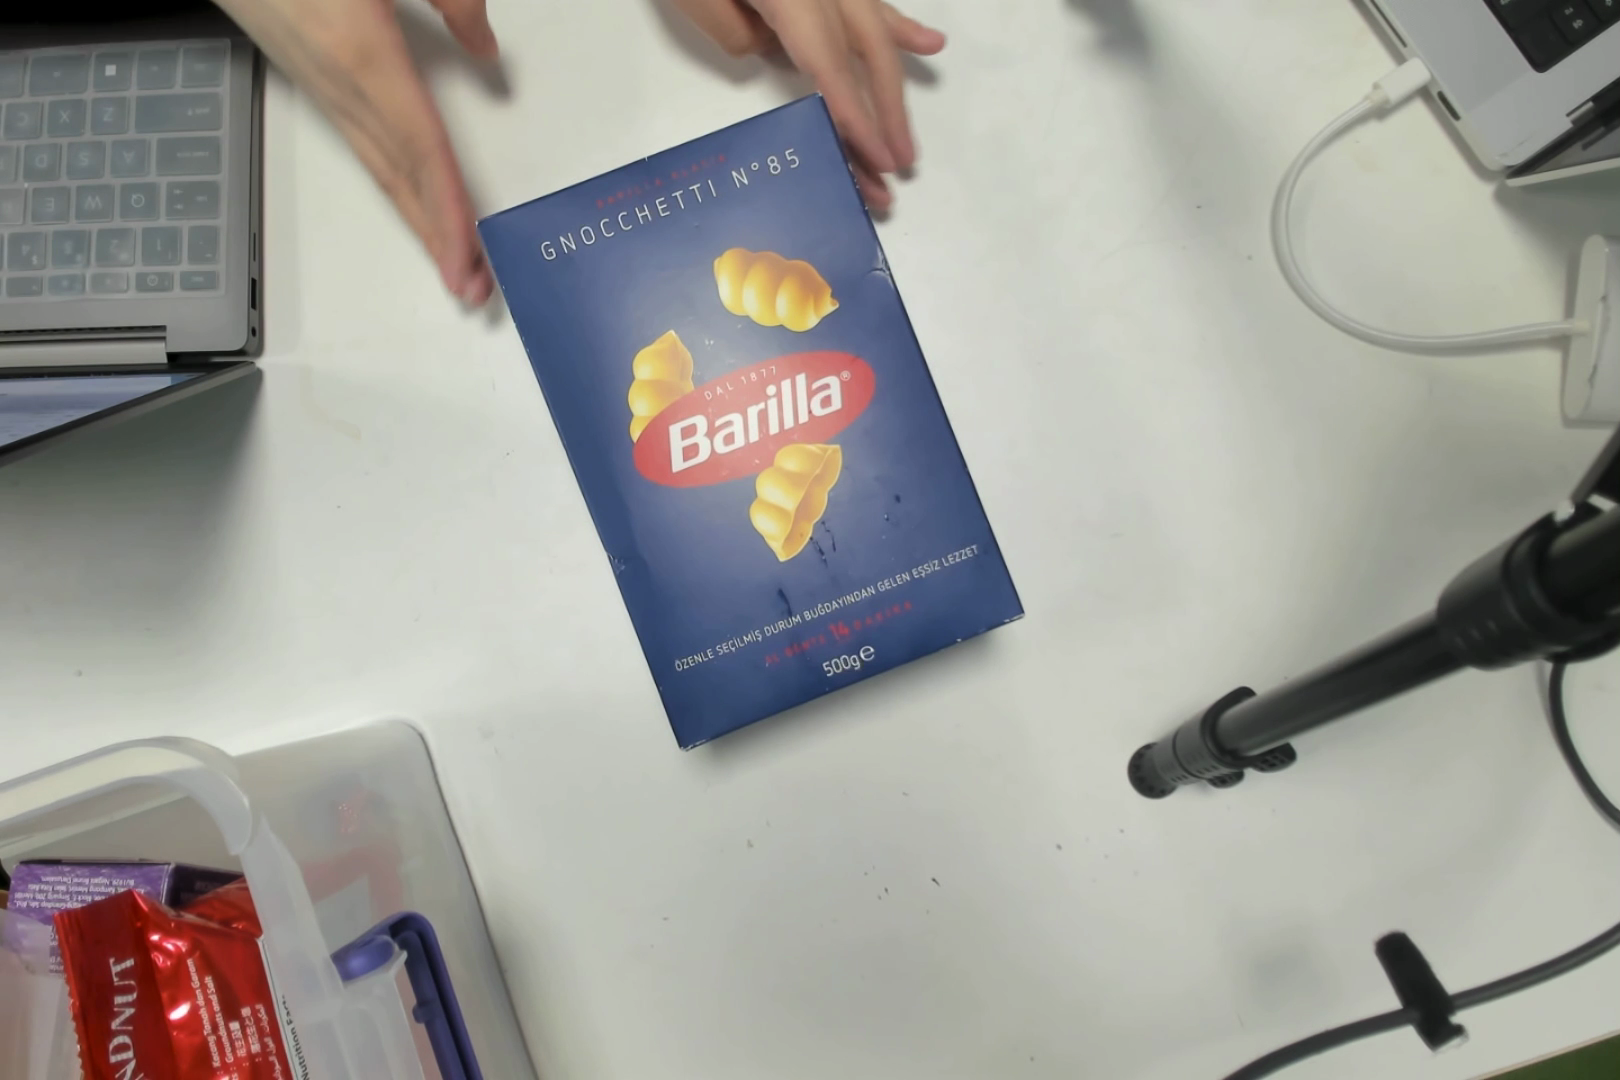Pasta_500-599g_NonHalal_NonHealthy: (542, 183, 990, 706)
